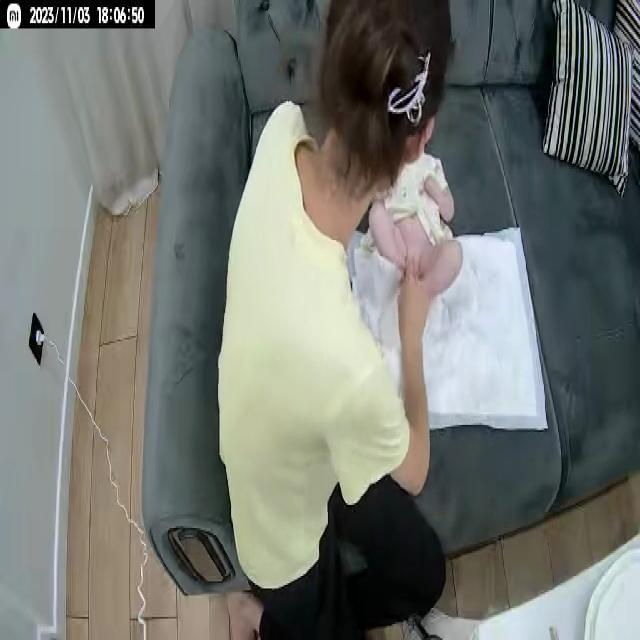baby: (371, 141, 468, 321)
